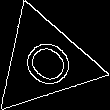O_SE: (10, 29, 79, 95)
